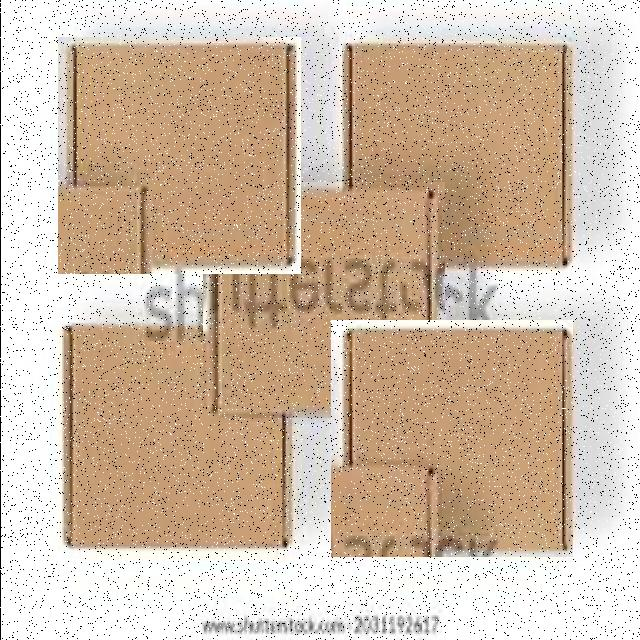normal: (57, 37, 300, 274), (330, 320, 572, 557), (55, 322, 298, 558), (202, 182, 444, 418), (330, 36, 572, 272)
